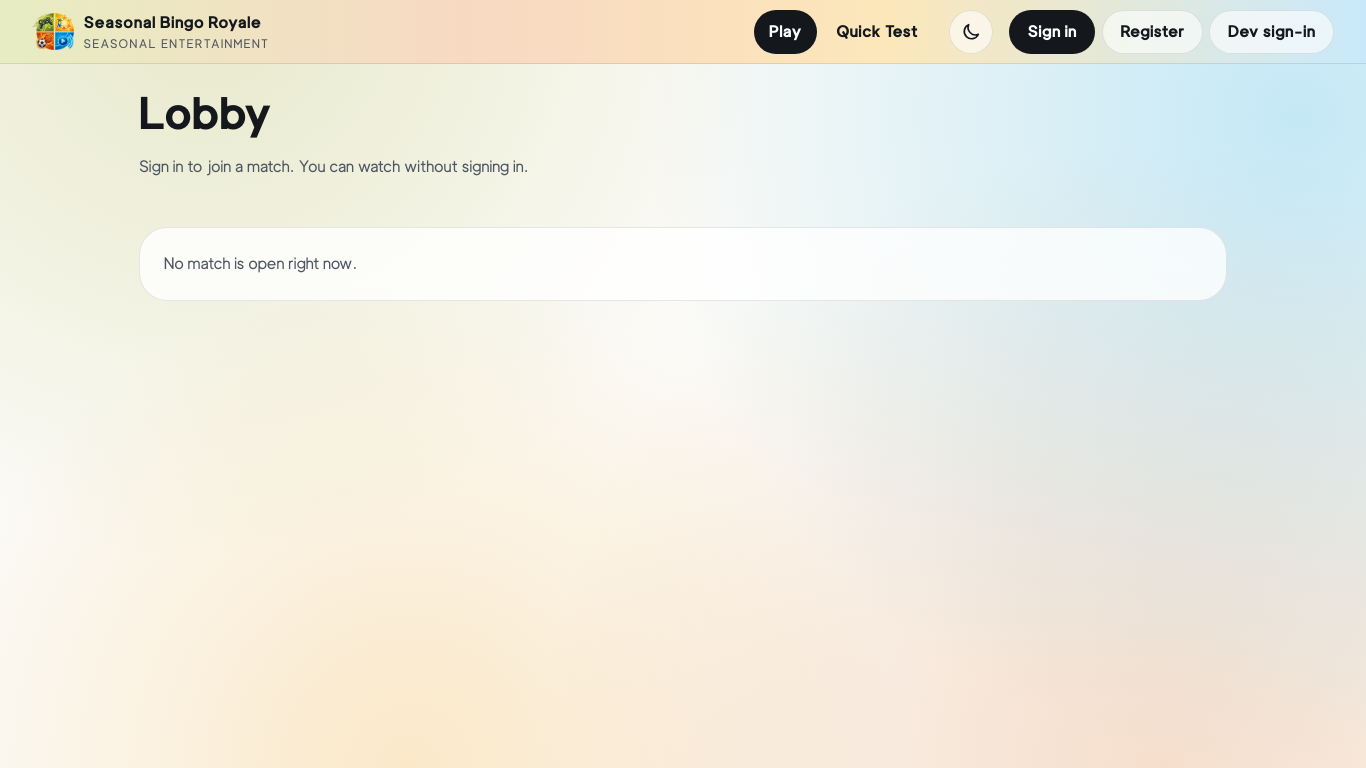
app shell › offers the quick sign-in only in development
# The development tools load on demand (lazy import, left out of production bundles).
Click the button with test id "dev-menu" showing "Dev sign-in" at (1272, 32), box left=1209, top=10, right=1334, bottom=54
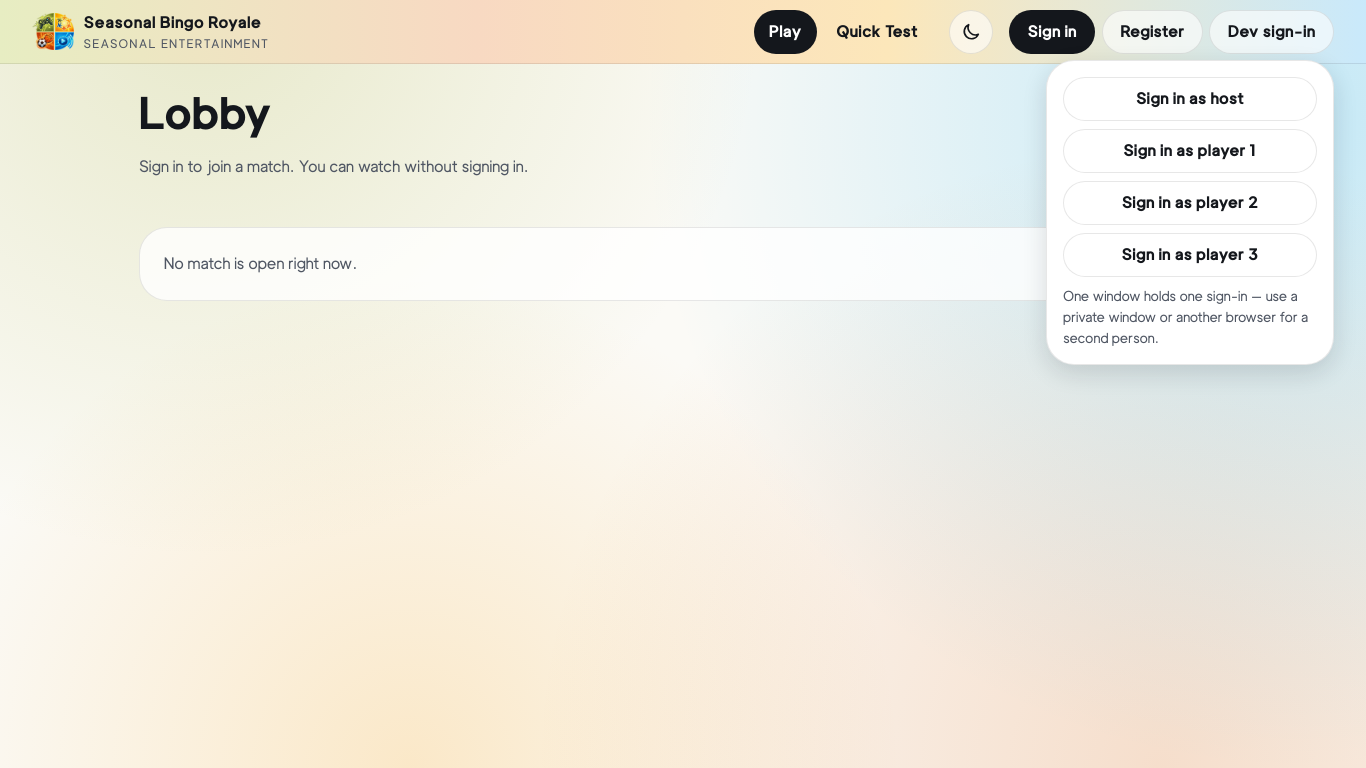
Expected: the menu item with test id "dev-sign-in-host" reads "Sign in as host", left=1063, top=77, right=1317, bottom=121
Expected: the text "One window holds one sign-in" is shown, left=1063, top=287, right=1308, bottom=346
Expected: the menu item with test id "dev-sign-in-player-3" reads "Sign in as player 3", left=1063, top=233, right=1317, bottom=277
